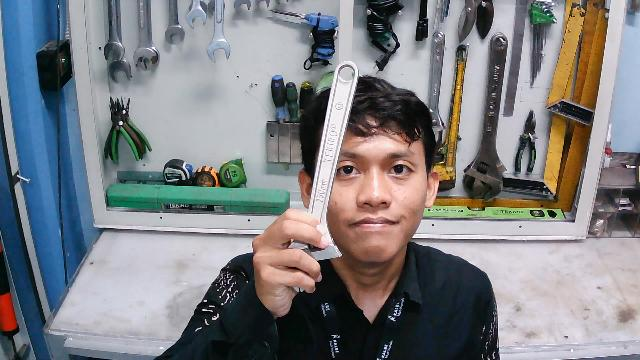kunci_inggris: (285, 57, 361, 296)
